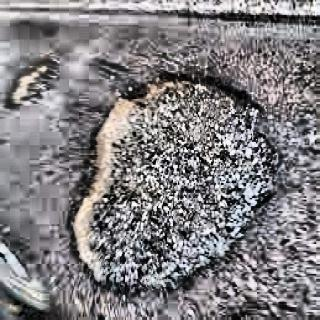pothole: (69, 67, 283, 286), (5, 52, 58, 112)
